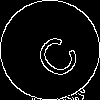C: (25, 25, 84, 83)
